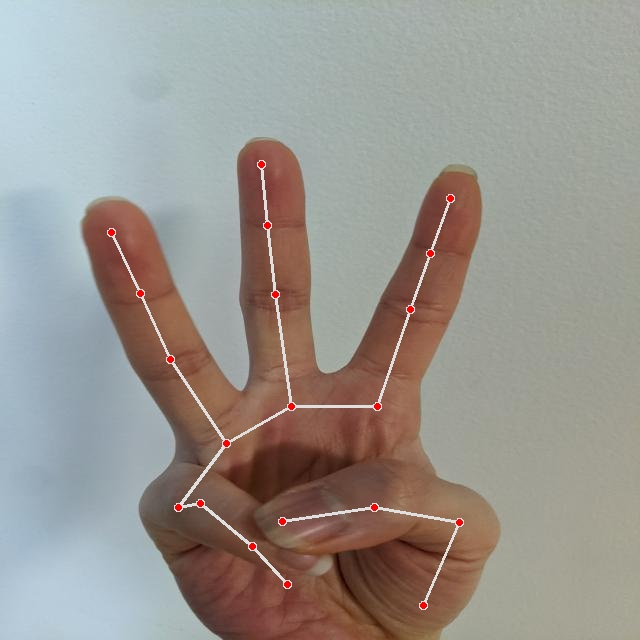W: (74, 133, 507, 639)
